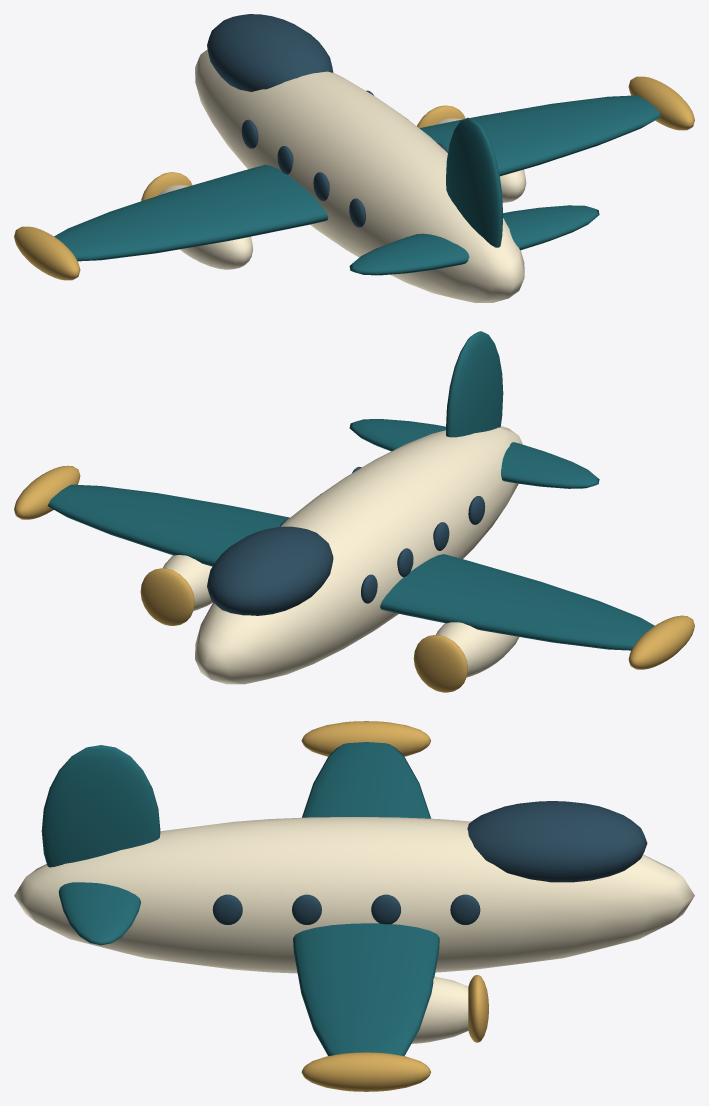
File: aircraft.glb
The picture shows the model from 3 angles, top to bottom: view 1: azimuth 30°, elevation 25°; view 2: azimuth 150°, elevation 25°; view 3: azimuth 270°, elevation 25°; orthographic projection. The views are drawn at different scales.
Visible parts, largest first — view 1: Fuselage, Main wings, Cockpit, Tail wings, Tail fin, Wingtip, Wingtip.001, Engine, Engine.001, Engine brass nose, Engine brass nose.001; view 2: Fuselage, Main wings, Cockpit, Tail wings, Tail fin, Engine brass nose.001, Engine brass nose, Engine, Wingtip, Wingtip.001, Engine.001; view 3: Fuselage, Main wings, Cockpit, Tail fin, Wingtip.001, Tail wings, Wingtip, Engine.001, Engine brass nose.001, Cabin window.007, Cabin window.001, Cabin window.003 (+1 smaller).
Boxes of the visible parts, box(x1,y1,x2,y2) form: Fuselage: box(195, 49, 524, 302); Main wings: box(54, 95, 661, 261); Cockpit: box(207, 14, 333, 91); Tail wings: box(349, 205, 599, 275); Tail fin: box(446, 117, 503, 247); Wingtip: box(14, 226, 80, 280); Wingtip.001: box(628, 76, 694, 130); Engine: box(158, 184, 253, 269); Engine.001: box(435, 118, 526, 202); Engine brass nose: box(141, 172, 192, 200); Engine brass nose.001: box(417, 105, 465, 128); Fuselage: box(195, 426, 522, 684); Main wings: box(47, 484, 654, 650); Cockpit: box(207, 526, 333, 615); Tail wings: box(349, 419, 599, 488); Tail fin: box(446, 331, 503, 437); Engine brass nose.001: box(140, 568, 194, 625); Engine brass nose: box(413, 635, 467, 692); Engine: box(436, 622, 519, 677); Wingtip: box(628, 615, 694, 669); Wingtip.001: box(14, 465, 80, 519); Engine.001: box(163, 555, 212, 610); Fuselage: box(14, 817, 694, 973); Main wings: box(293, 742, 439, 1056); Cockpit: box(467, 801, 647, 882); Tail fin: box(41, 745, 160, 867); Wingtip.001: box(301, 1052, 430, 1091); Tail wings: box(58, 882, 141, 945); Wingtip: box(301, 721, 430, 756); Engine.001: box(411, 976, 468, 1043); Engine brass nose.001: box(468, 975, 488, 1042); Cabin window.007: box(450, 894, 480, 924); Cabin window.001: box(212, 894, 242, 924); Cabin window.003: box(292, 894, 321, 924).
Size of the model in its own units: 1.04 by 0.31 by 0.86.
